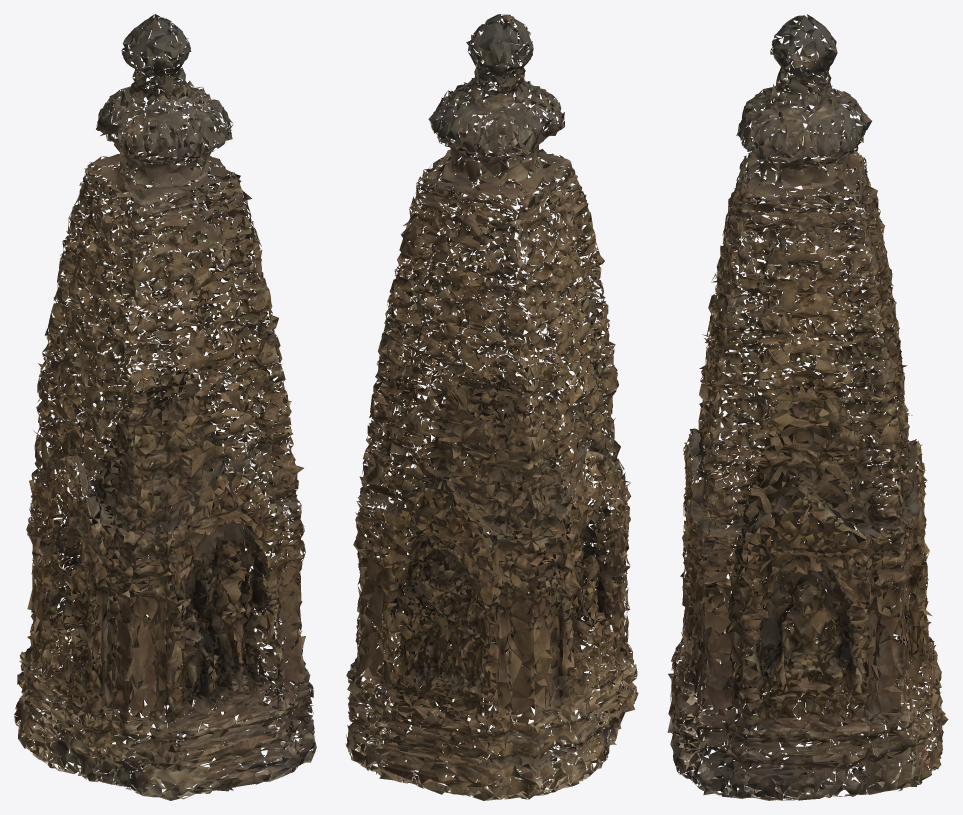
Rendered from temple.glb.
The picture shows the model from 3 angles, left to right: view 1: azimuth 30°, elevation 25°; view 2: azimuth 150°, elevation 25°; view 3: azimuth 270°, elevation 25°; orthographic projection.
Parts seen in each view (by area): view 1: Object_2, Object_3; view 2: Object_2, Object_3; view 3: Object_2, Object_3.
Boxes of the visible parts, <box> form: Object_2: <box>14,14,316,800</box>; Object_3: <box>37,205,305,666</box>; Object_2: <box>345,14,638,800</box>; Object_3: <box>355,201,609,625</box>; Object_2: <box>667,14,948,800</box>; Object_3: <box>680,202,912,689</box>.
Size of the model in its own units: 0.0952 by 0.28 by 0.0973.
1 material, 1 textured.
